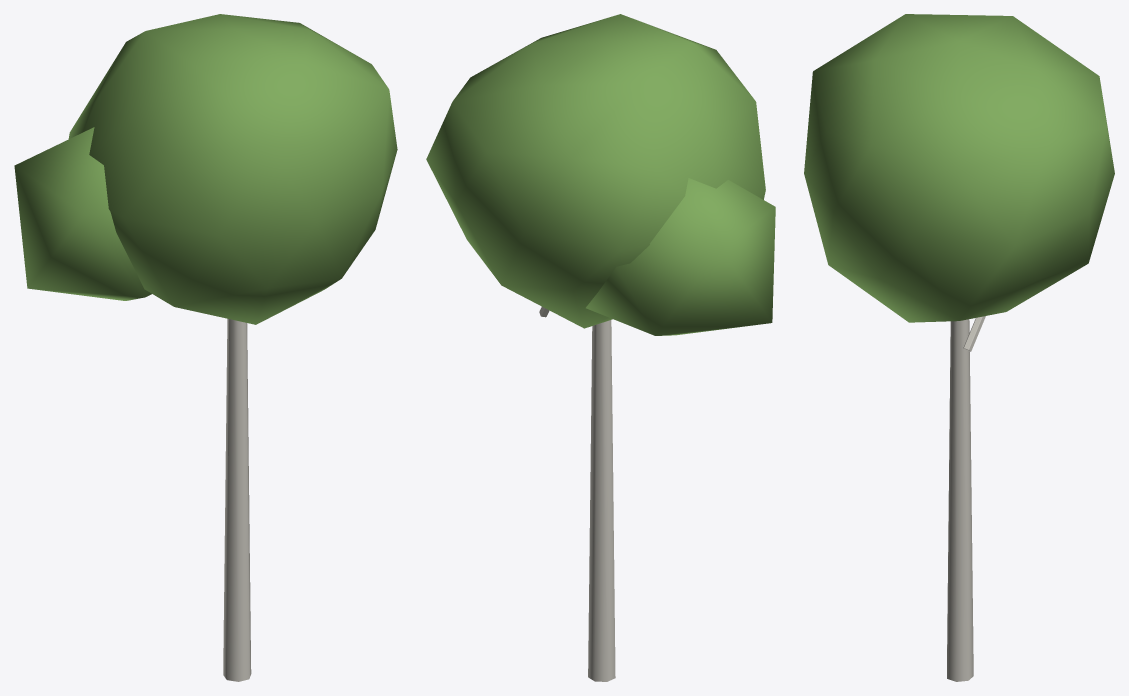
File: tree-birch.glb
3 views of the same model, side by side, from view 1: azimuth 30°, elevation 25°; view 2: azimuth 150°, elevation 25°; view 3: azimuth 270°, elevation 25° (orthographic). The views are drawn at different scales.
Visible parts, largest first — view 1: tree-birch; view 2: tree-birch; view 3: tree-birch.
Boxes of the visible parts, left/top/right/bottom form: tree-birch: left=14, top=14, right=397, bottom=681; tree-birch: left=426, top=14, right=775, bottom=681; tree-birch: left=804, top=14, right=1114, bottom=681.
Size of the model in its own units: 3.3 by 5.93 by 2.64.
